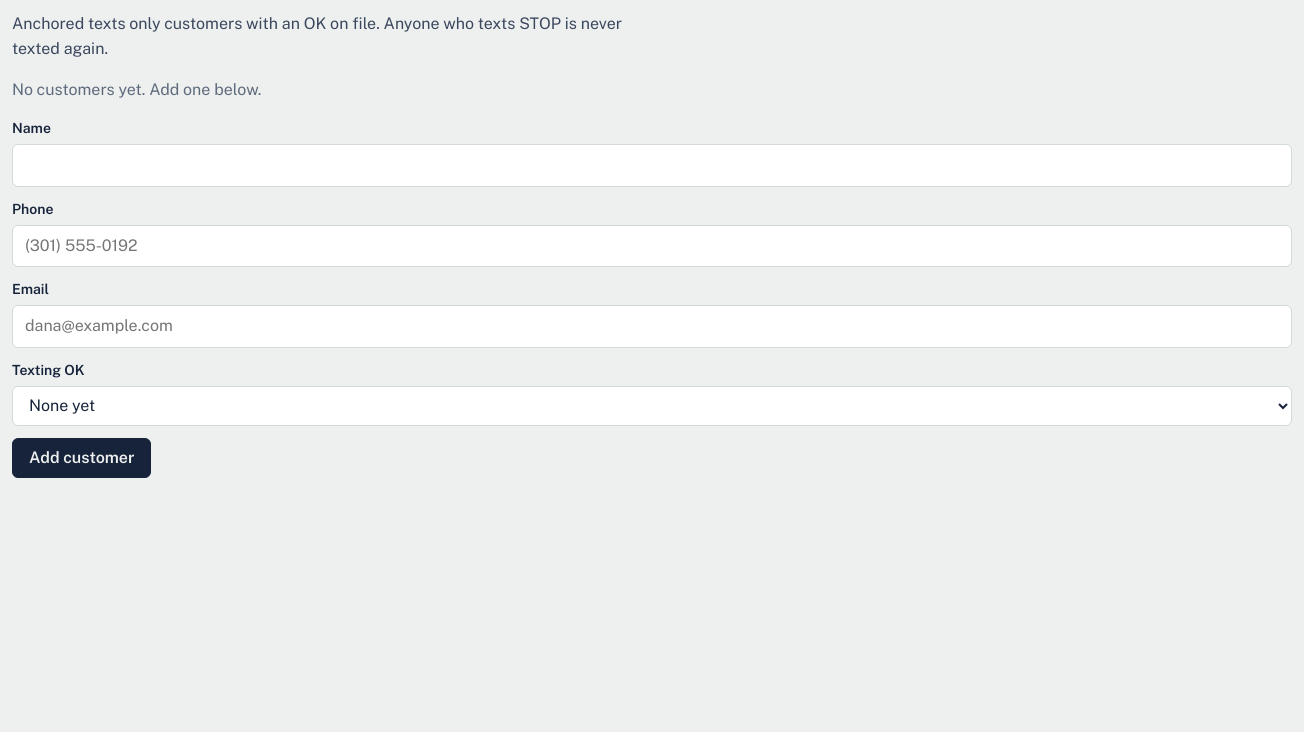
Test case: ContactsList › shows the route's reason when a customer can't be added
In the field labelled "Name": (652, 166) [12, 144, 1292, 187], type "Dana"
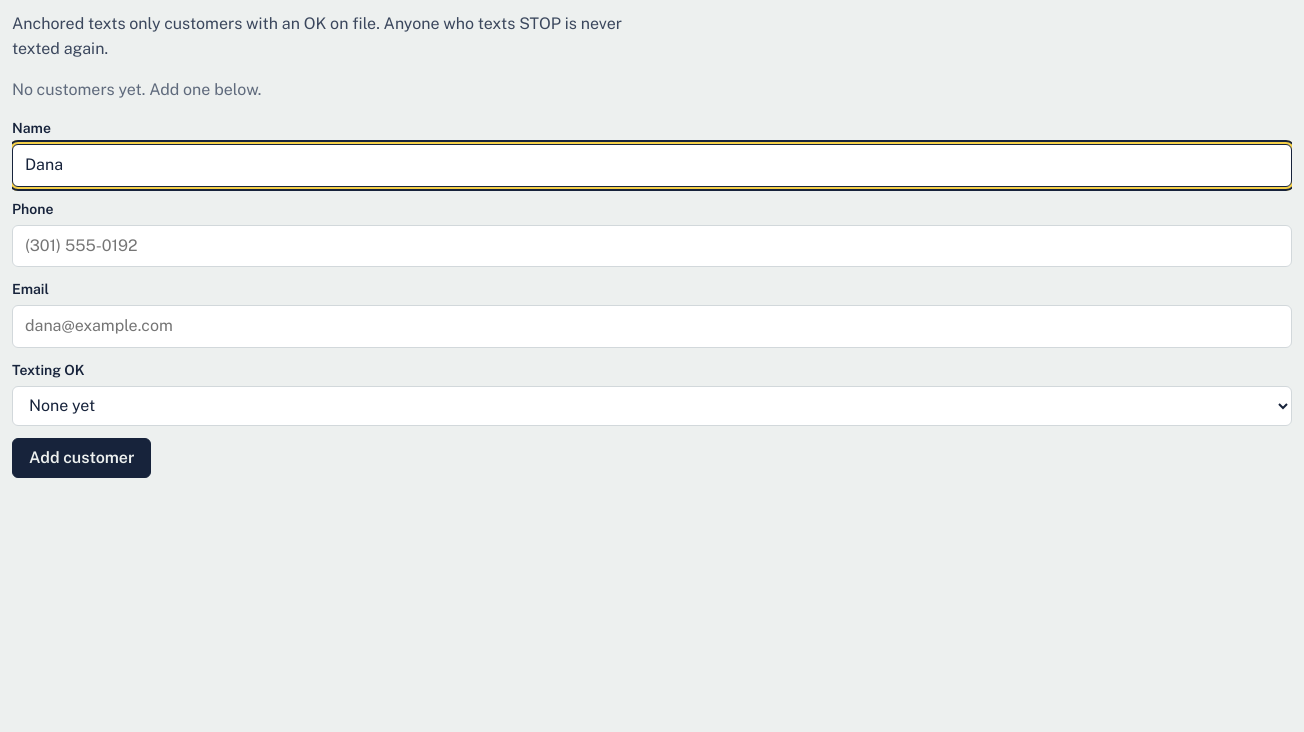
In the field labelled "Phone": (652, 246) [12, 225, 1292, 267], type "call me"
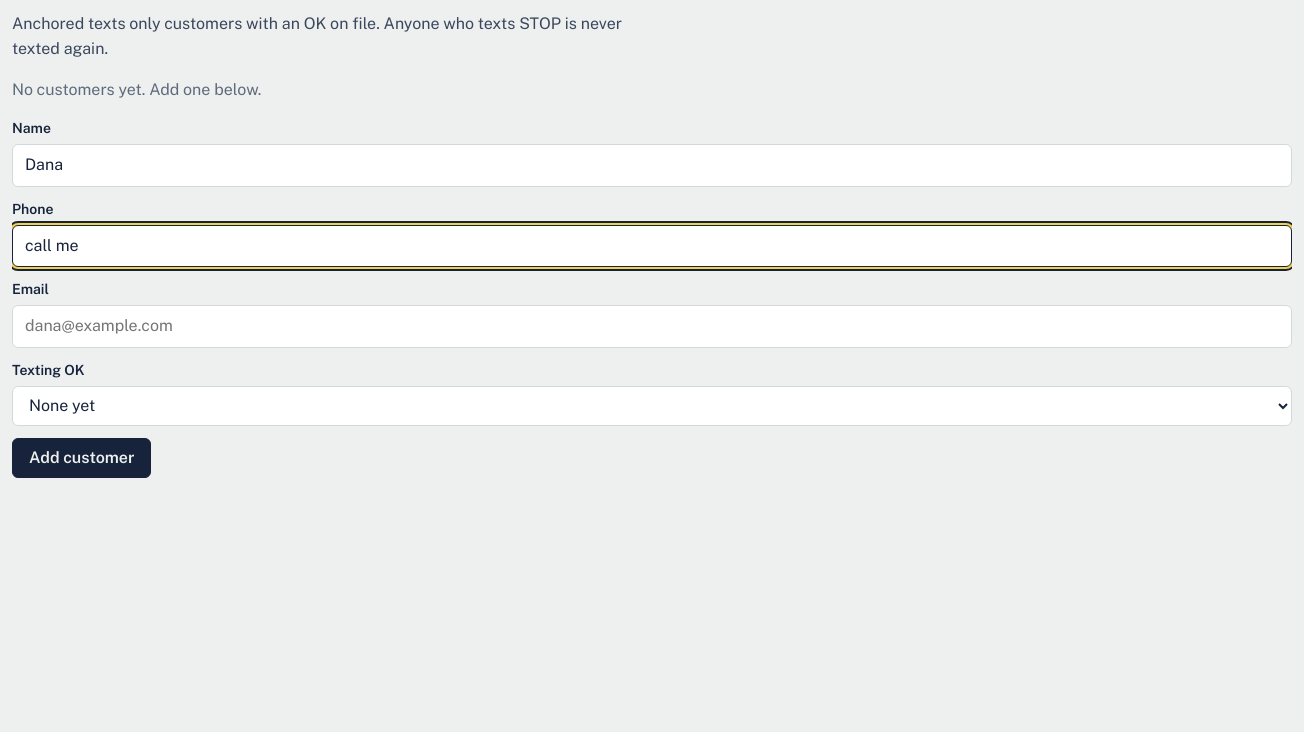
Click the button "Add customer": (82, 458) [12, 438, 152, 478]
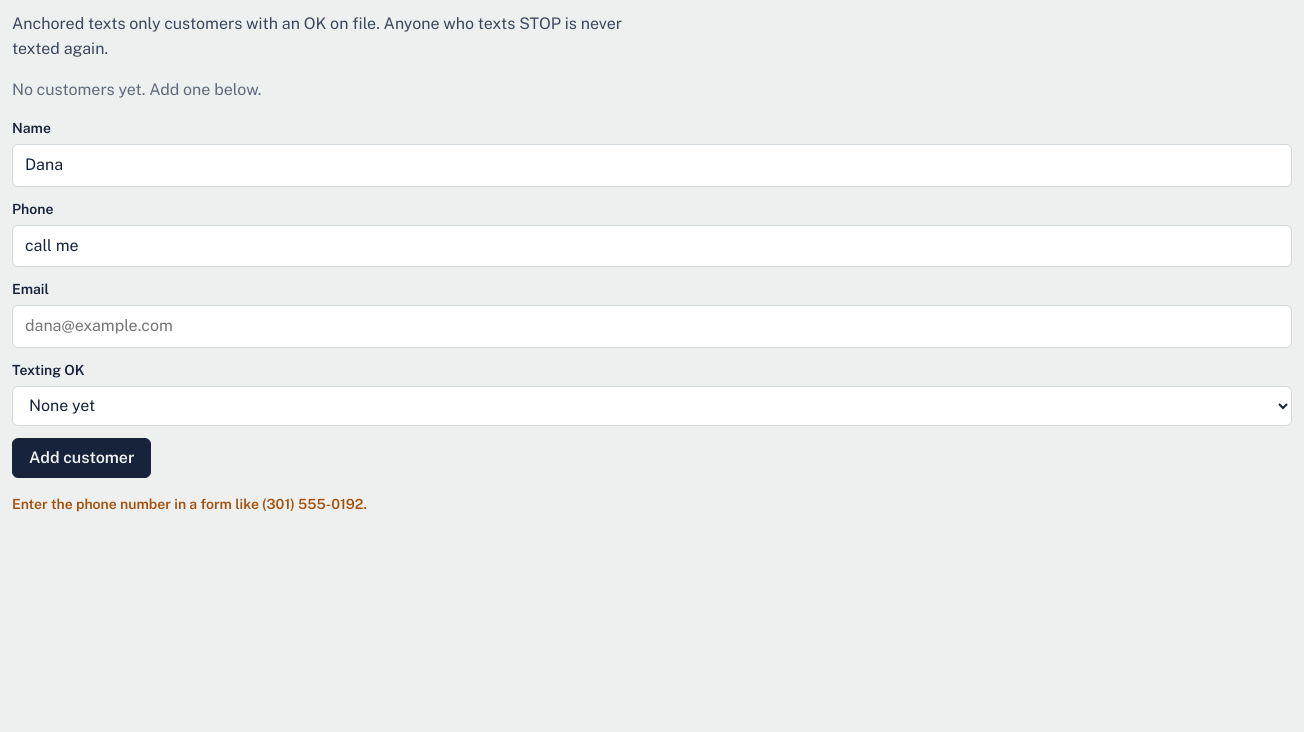
expect the message reads "Enter the phone number in a form like (301) 555-0192.": met, box [12, 496, 367, 512]
